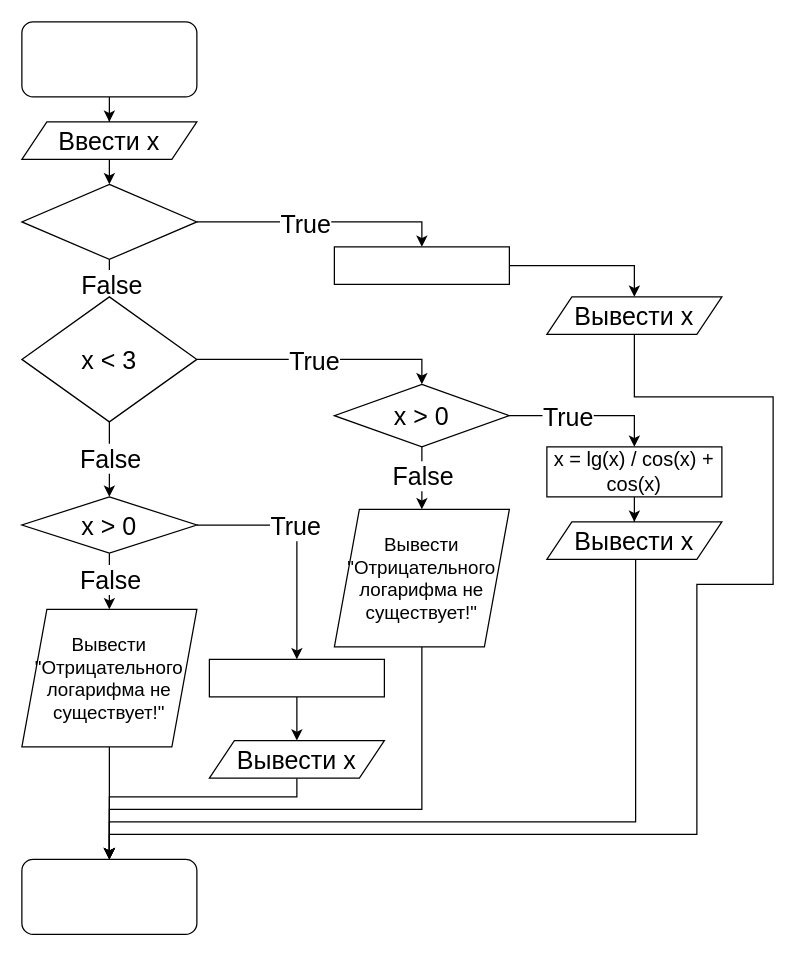
This 805x956 diagram has some shape labels left out. Each missing label, with the box of its shape:
x < -8: (21, 183, 197, 259)
x = lg(x) * e**x: (208, 658, 384, 697)
x = x**2: (333, 246, 509, 284)
Конец: (21, 858, 197, 934)
Начало: (21, 21, 197, 97)
